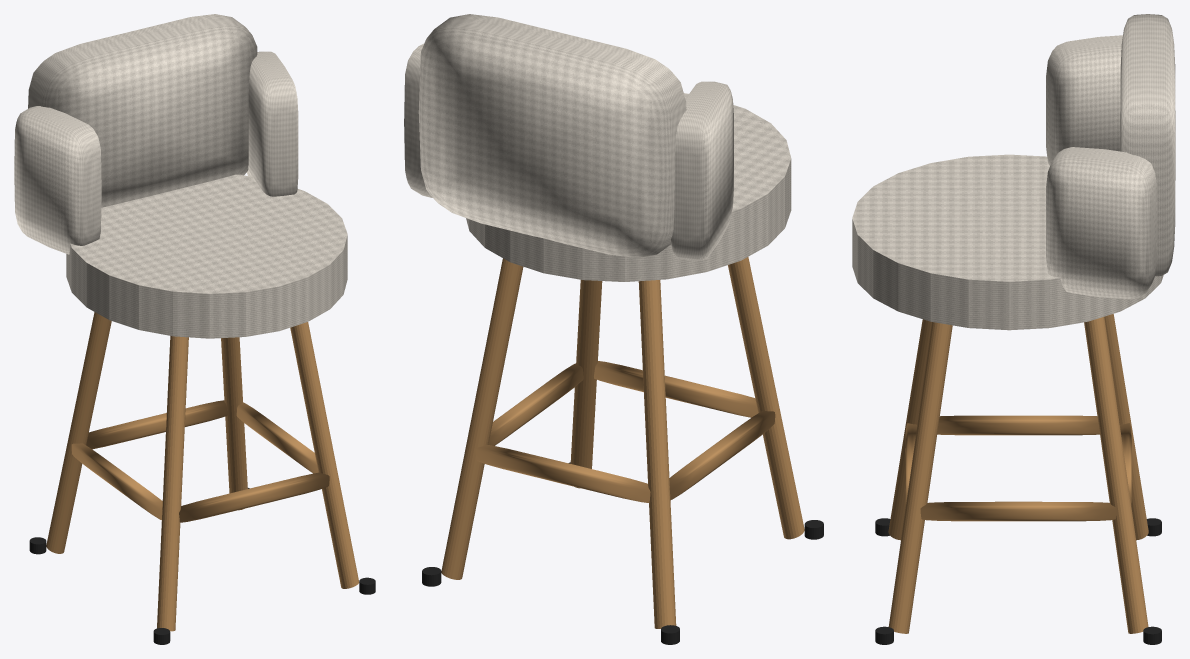
The picture shows the model from 3 angles, left to right: view 1: azimuth 30°, elevation 25°; view 2: azimuth 150°, elevation 25°; view 3: azimuth 270°, elevation 25°; orthographic projection. The views are drawn at different scales.
Parts seen in each view (by area): view 1: 1 seat, 2 backrest, 3 backrest_left_wing, 4 backrest_right_wing, 6 leg_front_left, 7 leg_front_right, 8 leg_back_left, 9 leg_back_right, 10 footrest_front, 11 footrest_back, 12 footrest_left, 13 footrest_right; view 2: 2 backrest, 1 seat, 3 backrest_left_wing, 8 leg_back_left, 9 leg_back_right, 6 leg_front_left, 7 leg_front_right, 11 footrest_back, 10 footrest_front, 12 footrest_left, 13 footrest_right, 4 backrest_right_wing; view 3: 1 seat, 4 backrest_right_wing, 2 backrest, 3 backrest_left_wing, 9 leg_back_right, 7 leg_front_right, 13 footrest_right, 12 footrest_left, 8 leg_back_left, 6 leg_front_left, 10 footrest_front, 11 footrest_back.
Boxes of the visible parts, bbox=[...] form: 1 seat: bbox=[66, 174, 347, 338]; 2 backrest: bbox=[28, 14, 257, 207]; 3 backrest_left_wing: bbox=[14, 106, 101, 254]; 4 backrest_right_wing: bbox=[246, 51, 298, 196]; 6 leg_front_left: bbox=[157, 336, 188, 631]; 7 leg_front_right: bbox=[290, 322, 359, 588]; 8 leg_back_left: bbox=[46, 312, 111, 553]; 9 leg_back_right: bbox=[221, 337, 247, 510]; 10 footrest_front: bbox=[179, 472, 329, 522]; 11 footrest_back: bbox=[86, 400, 227, 449]; 12 footrest_left: bbox=[71, 443, 162, 520]; 13 footrest_right: bbox=[236, 402, 318, 473]; 2 backrest: bbox=[418, 14, 686, 257]; 1 seat: bbox=[466, 93, 791, 281]; 3 backrest_left_wing: bbox=[671, 81, 733, 260]; 8 leg_back_left: bbox=[638, 280, 676, 628]; 9 leg_back_right: bbox=[441, 258, 523, 579]; 6 leg_front_left: bbox=[728, 257, 804, 539]; 7 leg_front_right: bbox=[570, 280, 602, 488]; 11 footrest_back: bbox=[475, 445, 650, 502]; 10 footrest_front: bbox=[594, 361, 758, 417]; 12 footrest_left: bbox=[669, 411, 775, 500]; 13 footrest_right: bbox=[488, 363, 583, 445]; 4 backrest_right_wing: bbox=[404, 43, 432, 197]; 1 seat: bbox=[852, 154, 1163, 330]; 4 backrest_right_wing: bbox=[1046, 147, 1157, 299]; 2 backrest: bbox=[1120, 14, 1175, 276]; 3 backrest_left_wing: bbox=[1046, 35, 1122, 165]; 9 leg_back_right: bbox=[1084, 317, 1148, 633]; 7 leg_front_right: bbox=[888, 322, 952, 633]; 13 footrest_right: bbox=[920, 501, 1116, 521]; 12 footrest_left: bbox=[937, 415, 1099, 435]; 8 leg_back_left: bbox=[1104, 314, 1148, 540]; 6 leg_front_left: bbox=[888, 319, 931, 540]; 10 footrest_front: bbox=[905, 423, 917, 503]; 11 footrest_back: bbox=[1120, 423, 1131, 504].
Size of the model in its own units: 0.55 by 1 by 0.55.
Materials: 3 (1 with a texture image).
